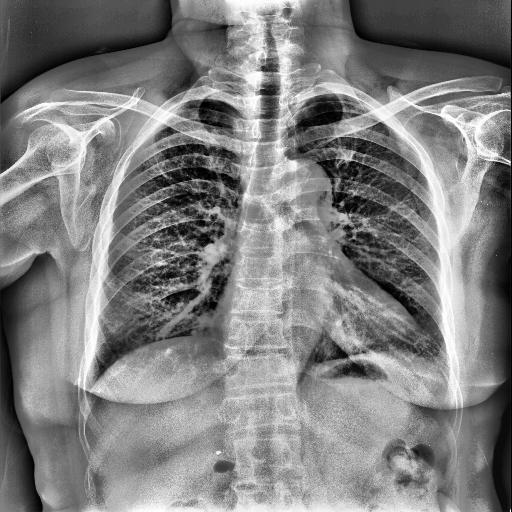0- Aortic enlargement: (273, 158, 333, 218), (270, 159, 334, 210), (279, 156, 331, 202)
3- Cardiomegaly: (216, 298, 436, 364), (212, 294, 418, 354), (211, 308, 421, 354)
